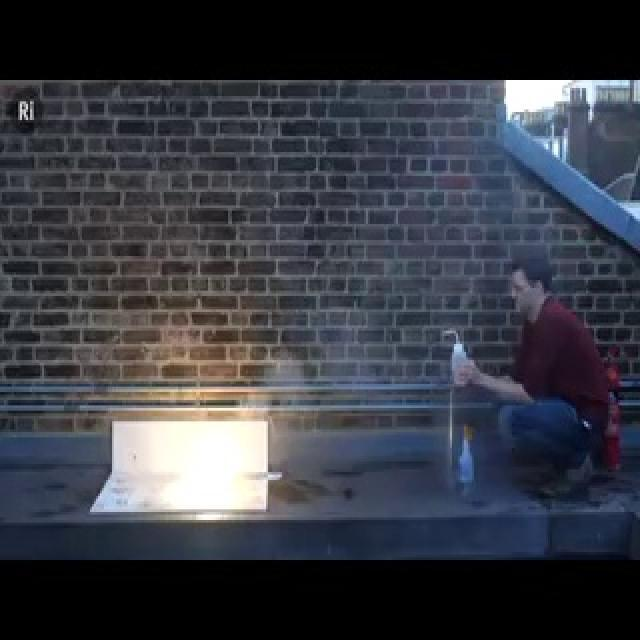fire: (149, 400, 253, 510)
